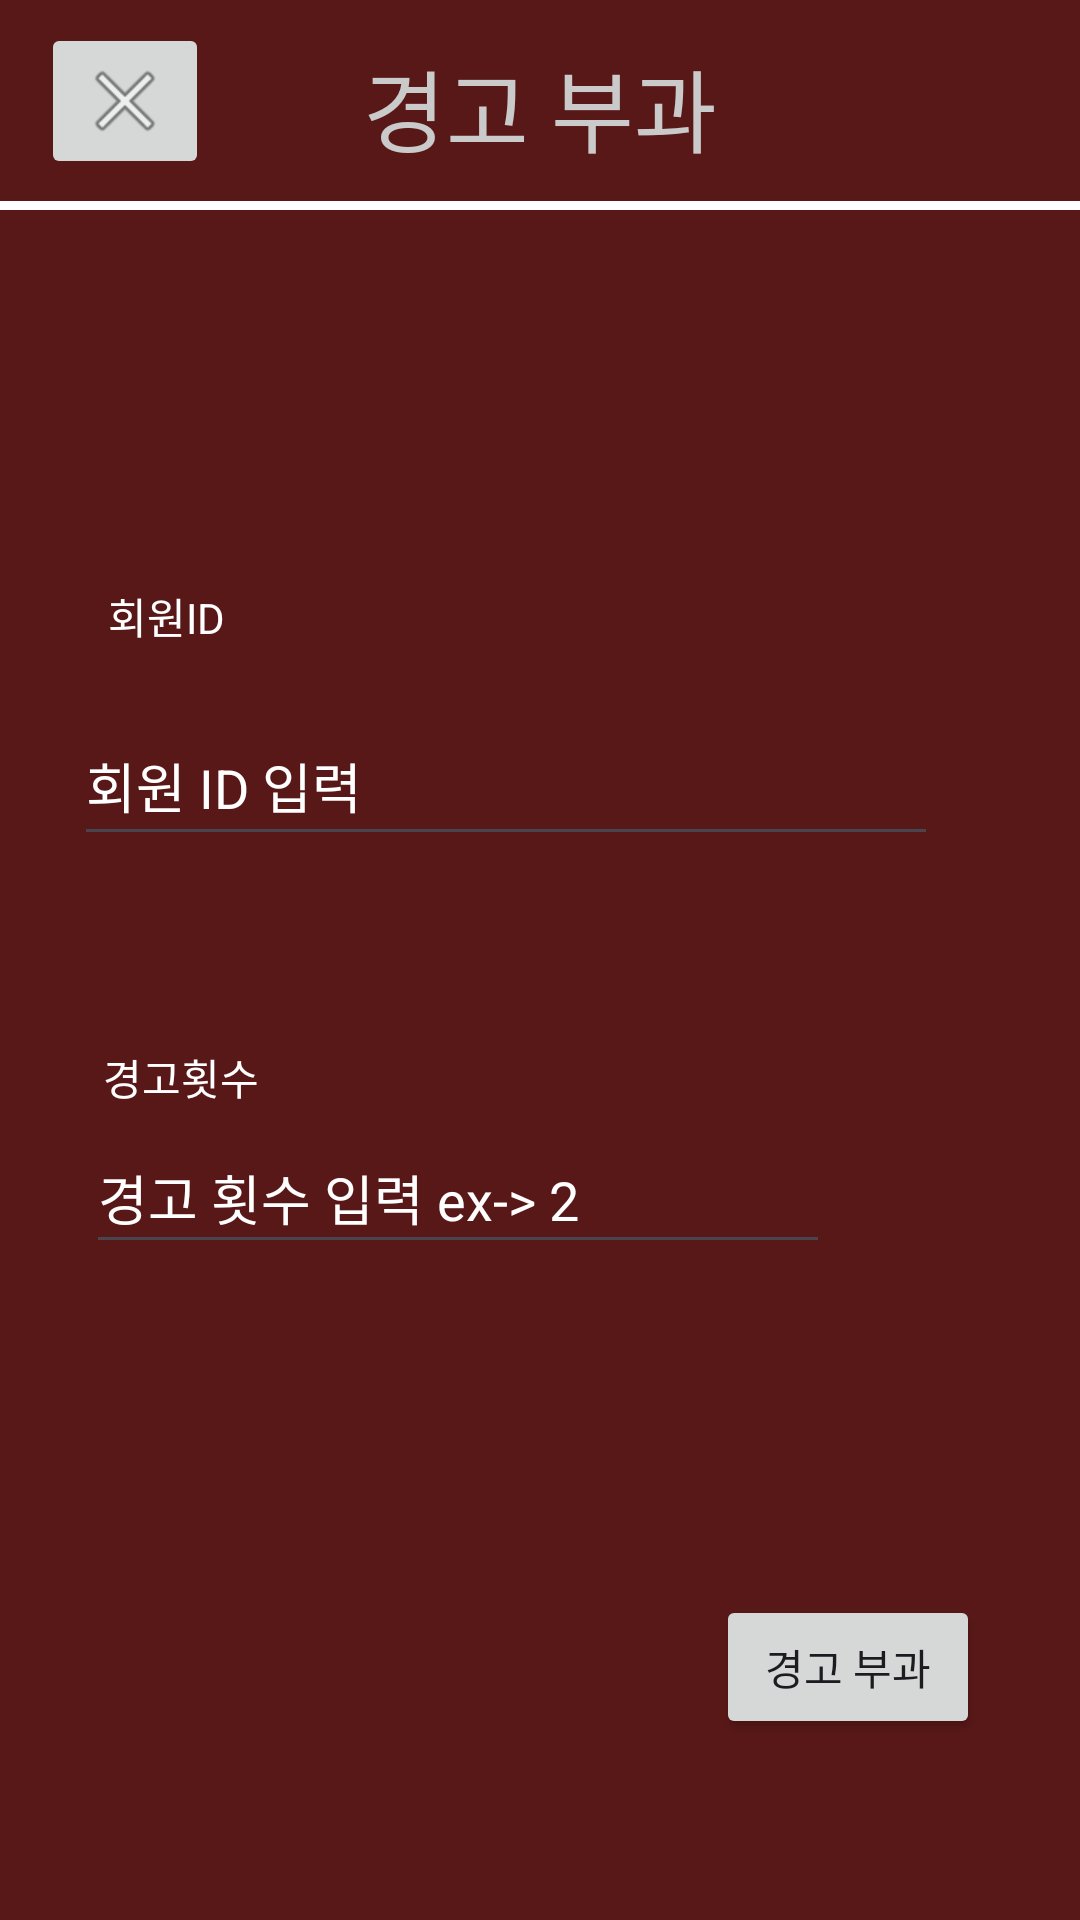

Icons on this 1080x1920 Android screen, each with its box as (x1, y1, x2, y2):
close clear cancel: (53, 41, 197, 161)
